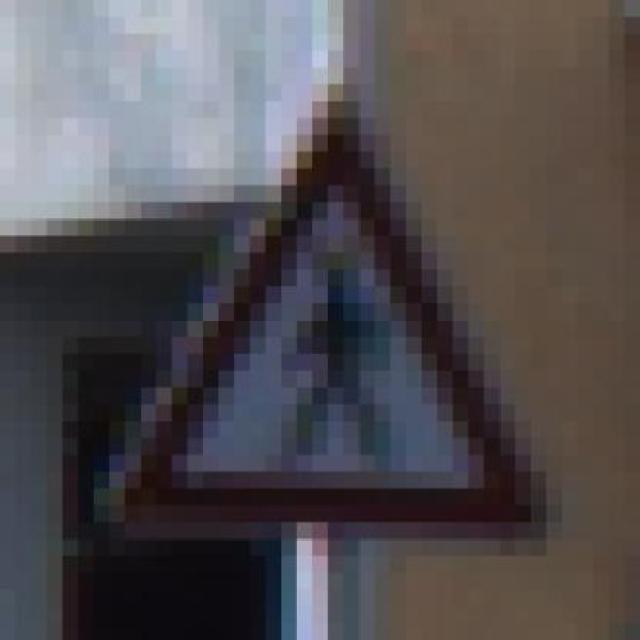Pedestrian Crossing: (100, 53, 568, 559)
